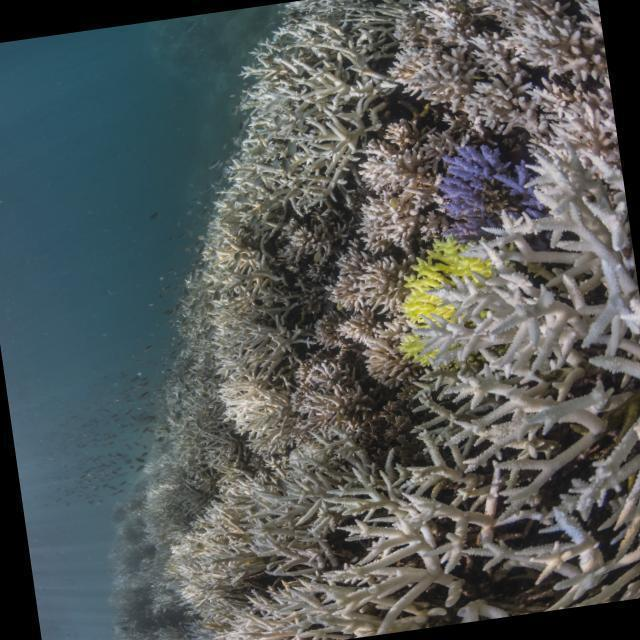Bleached Coral: (210, 0, 377, 200), (518, 125, 640, 397), (160, 451, 377, 593), (507, 419, 640, 613), (198, 554, 482, 640), (167, 233, 289, 431), (413, 262, 584, 399), (356, 443, 507, 579), (460, 75, 541, 138)
